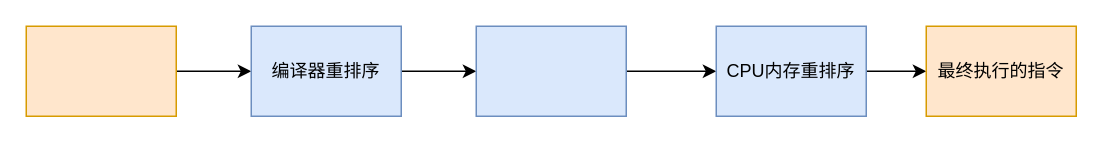
Image size: 1103x143. Some labels were removed from this diagram. Here are the shapes that lost their labels. From the top down, the centre of each, then its label:
point (100, 70): 源代码
point (550, 70): CPU指令重排序
